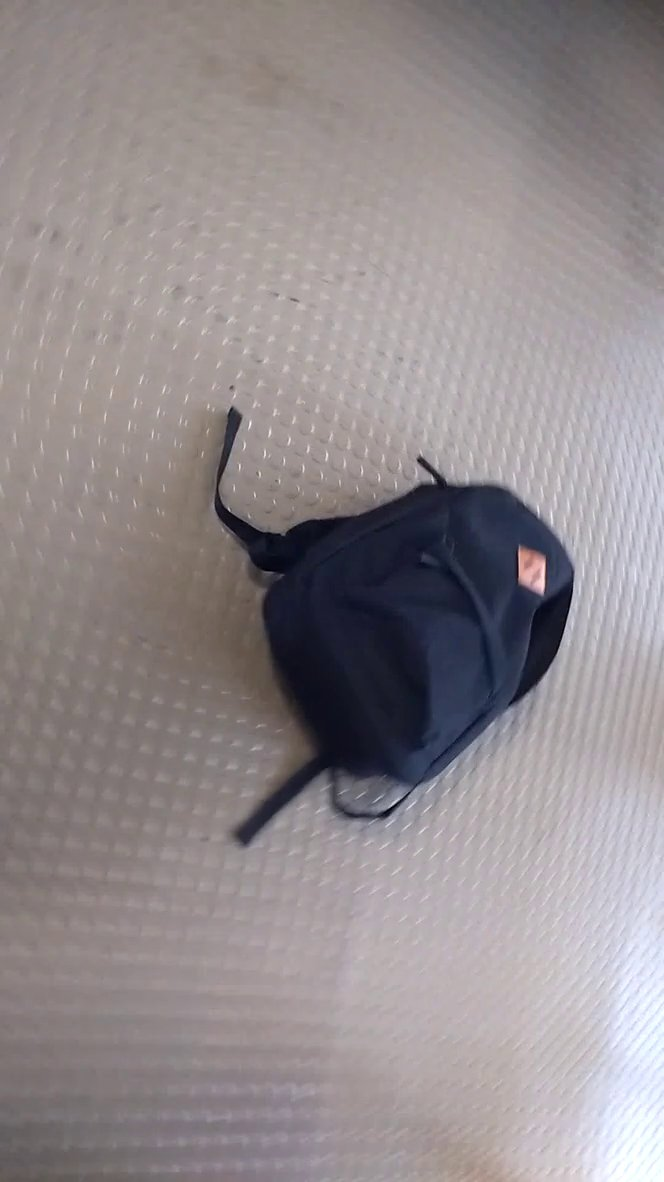bag: (213, 390, 597, 853)
